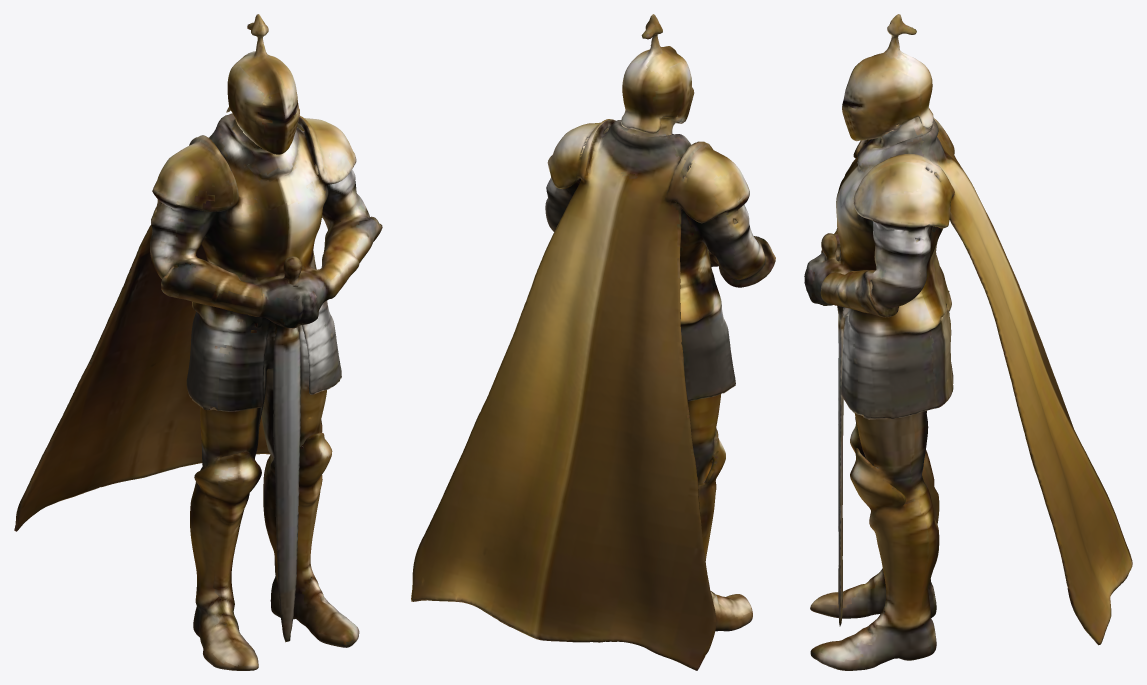
Rendered from knight2.glb.
3 views of the same model, side by side, from view 1: azimuth 30°, elevation 25°; view 2: azimuth 150°, elevation 25°; view 3: azimuth 270°, elevation 25° (orthographic).
Parts seen in each view (by area): view 1: Mesh_0; view 2: Mesh_0; view 3: Mesh_0.
Boxes of the visible parts, x1,y1,x2,y2 form: Mesh_0: (14,14,382,670); Mesh_0: (411,14,775,670); Mesh_0: (804,14,1132,670).
Size of the model in its own units: 0.1303 by 0.254 by 0.1211.
1 material, 1 textured.
